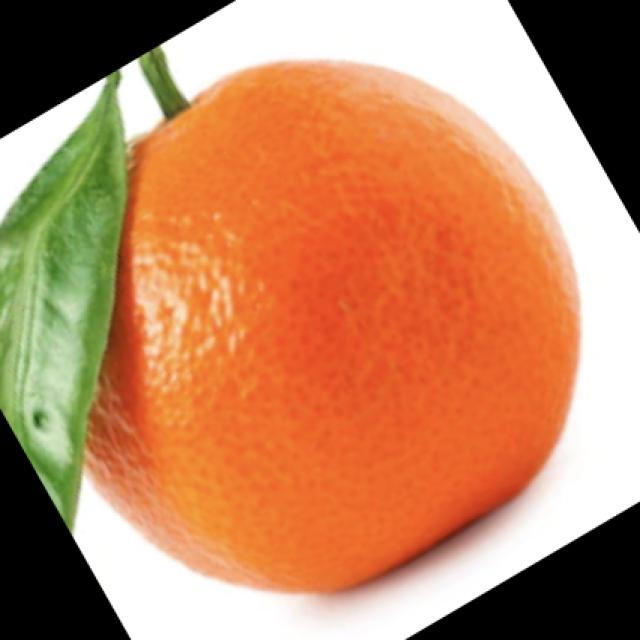matang: (82, 56, 580, 592)
